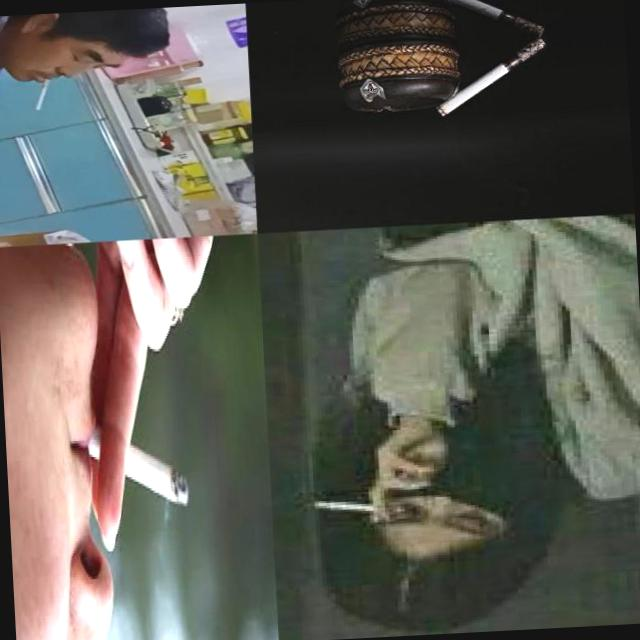smoke: (76, 414, 190, 512), (431, 36, 551, 118), (438, 0, 546, 42), (311, 496, 408, 519), (34, 78, 50, 110)
